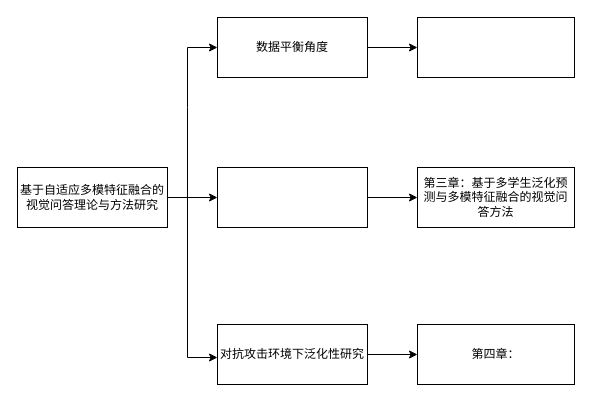
Image size: 592x402. Some labels were removed from this diagram. The centre of each missing label's shape, as x and y in pixels:
特征学习平衡角度: (292,197)
第二章：基于对比学习与多模特征对齐的视觉问答模型: (495,47)
